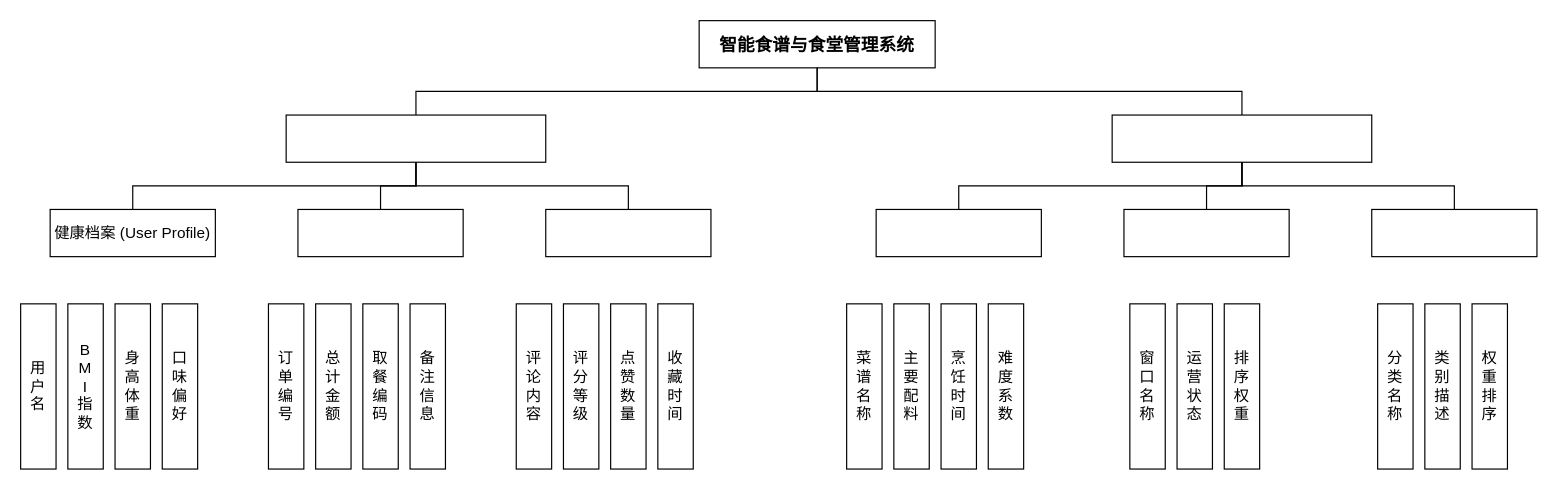
Some shapes in this 1558 by 490 pixel diagram are drawn without their labels. The shapes that lost their labels are listed below. From the top down, each one's box as (x1, y1, x2, y2) in pixels, then its label:
(285, 114, 546, 162): 用户端功能模块 (Client Side)
(1111, 114, 1372, 162): 管理端功能模块 (Admin/Merchant)
(297, 208, 463, 257): 交易中心 (Order/Cart)
(545, 208, 711, 257): 社交互动 (Favorite/Review)
(875, 208, 1041, 257): 菜谱资源 (Recipe Content)
(1123, 208, 1289, 257): 窗口管理 (Dining Window)
(1371, 208, 1537, 257): 分类字典 (Category)
